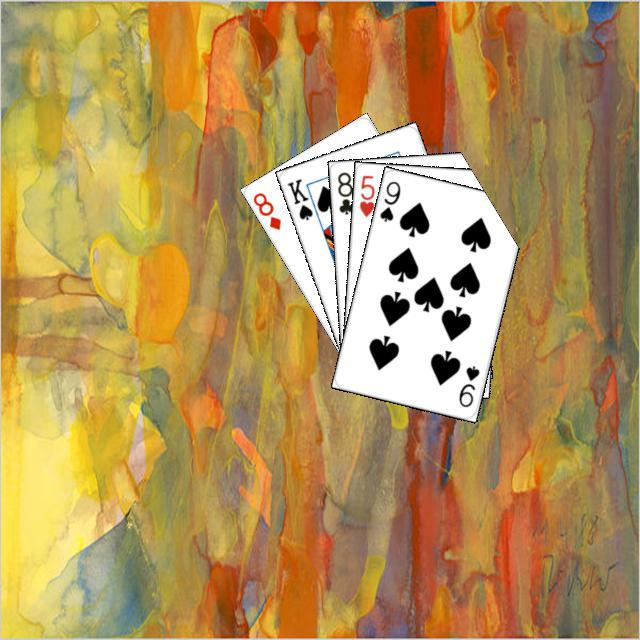5h: (354, 170, 376, 219)
8c: (332, 167, 355, 216)
8d: (248, 187, 283, 232)
9s: (454, 361, 481, 409), (375, 176, 402, 223)
Ks: (282, 173, 315, 222)
